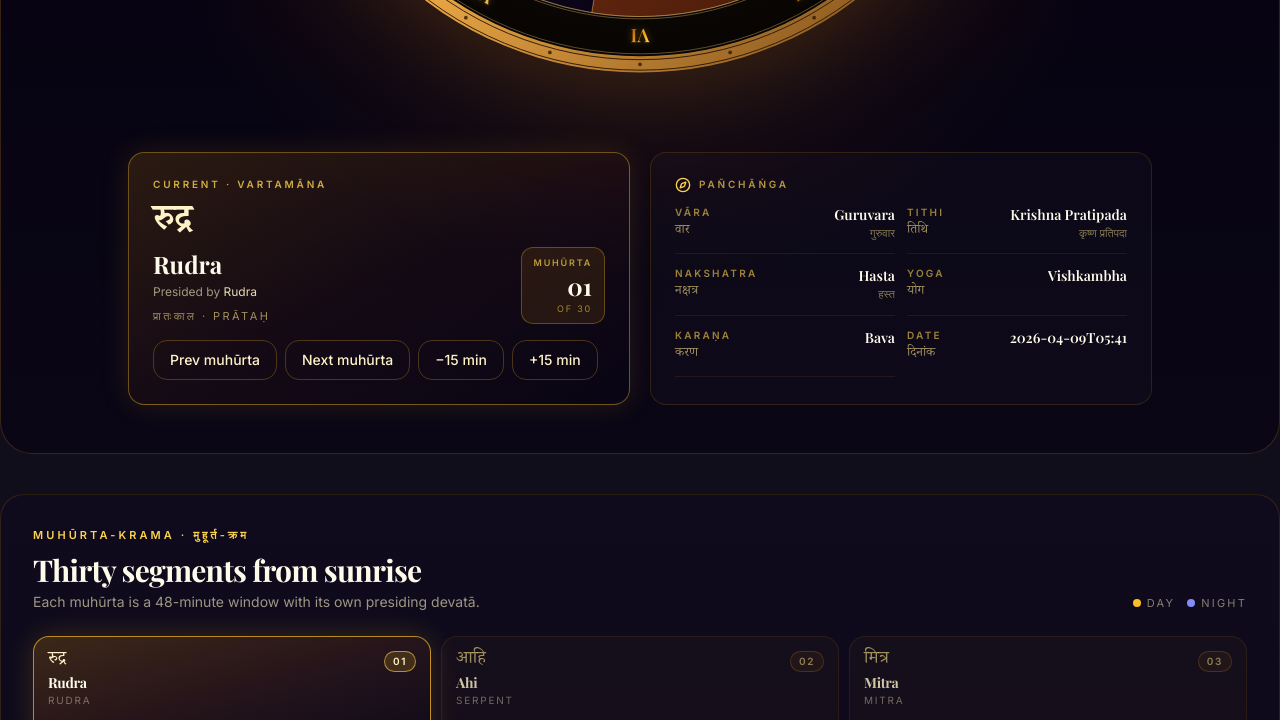
Test: VedicClockClient › stops live mode after manual interaction until Now is pressed again
This screenshot has width=1280, height=720.
(page scrolled)
Click the button "+15 min" at (555, 360), box [512,340,598,380]
Wait 300000 ms
(page scrolled)
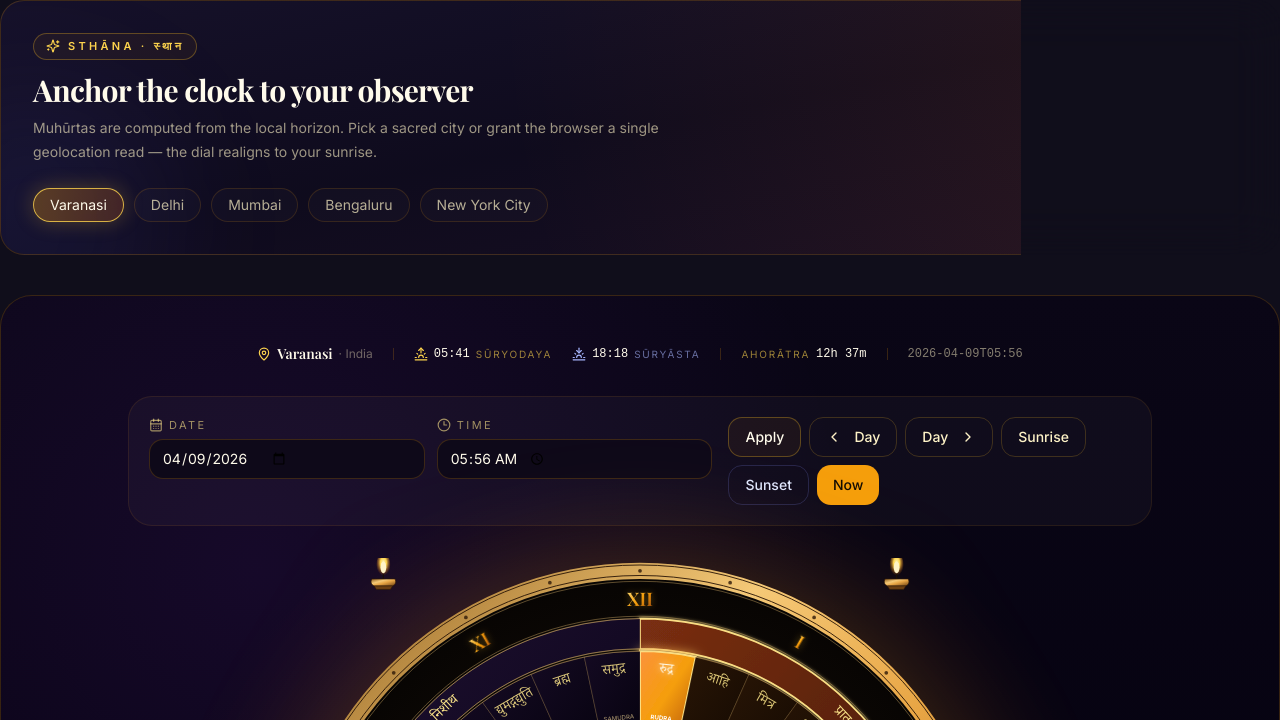
Now the text "2026-04-09T05:56" is shown, box [908,346,1023,362]
